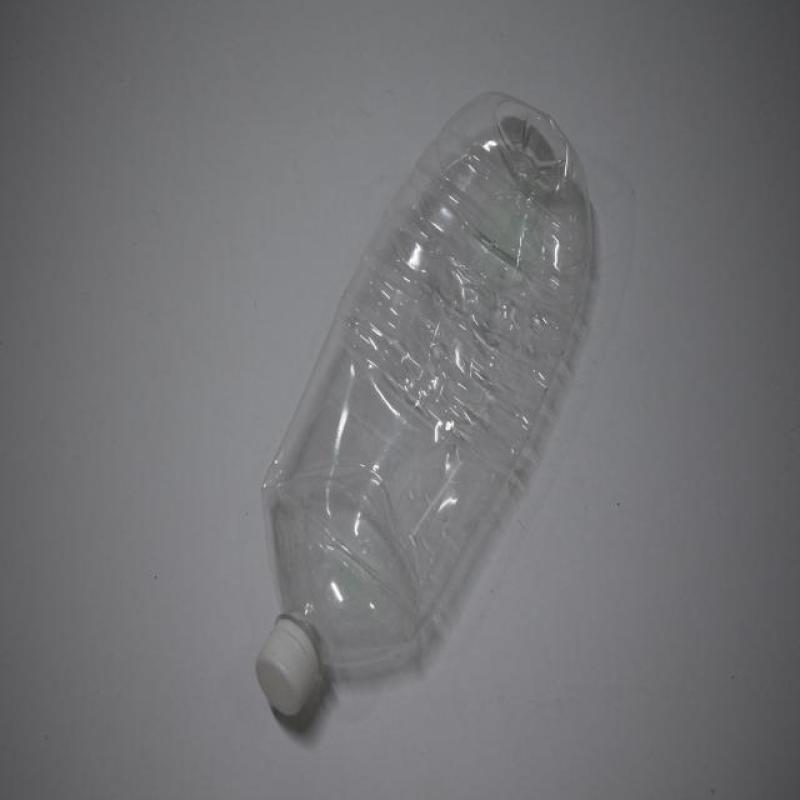botella: (255, 93, 594, 725)
